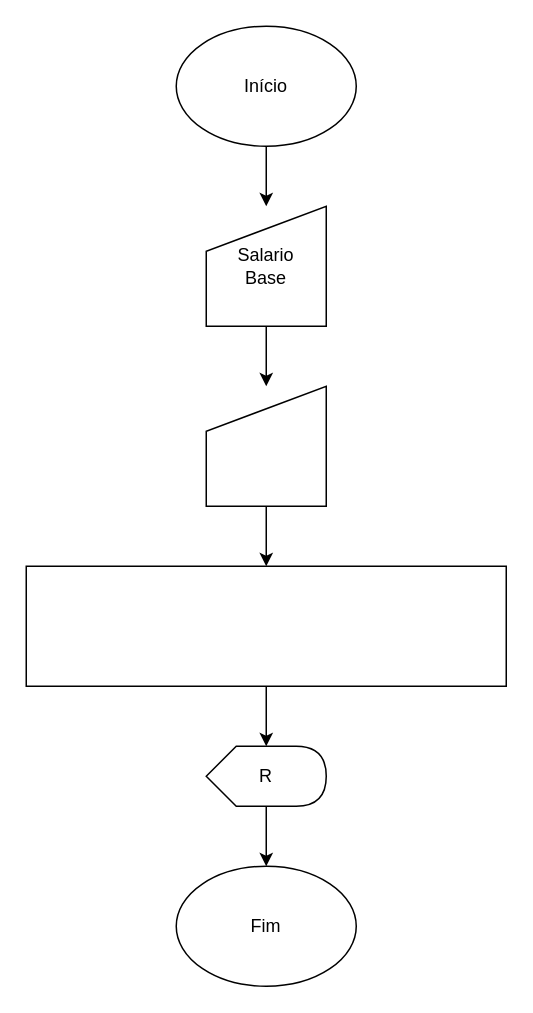
Some shapes in this 533 by 1013 pixel diagram are drawn without their labels. Here are the shapes that lost their labels. From the top down, the centre of each, then its label:
the point at 265,445: Quota de Aumento
the point at 265,625: R <- (Salario Base * quota de Aumento) + Salario Base
